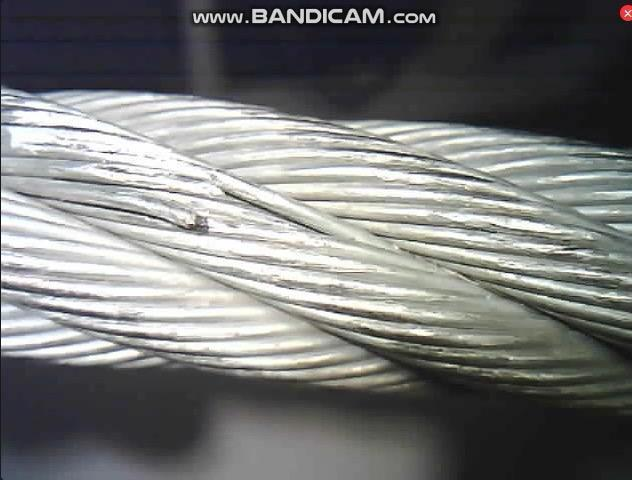break: (169, 156, 244, 238)
